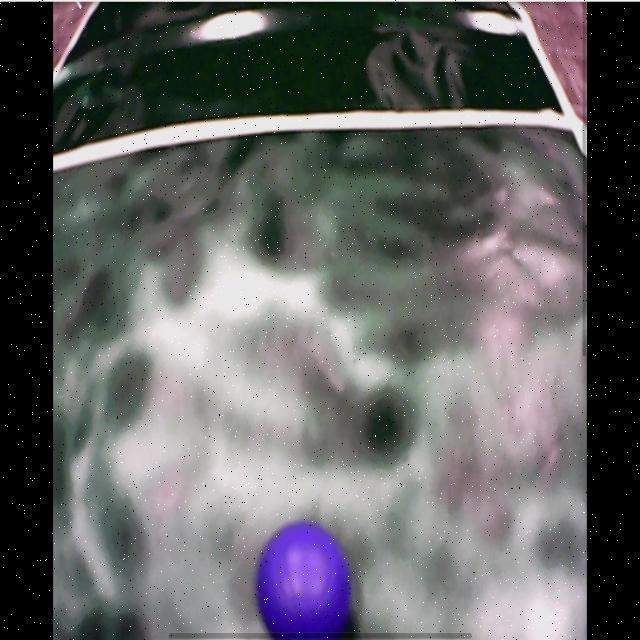ball: (259, 525, 353, 636)
